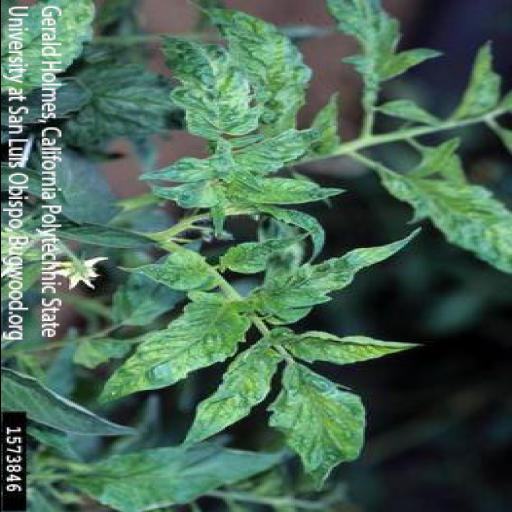disease_tomato: (86, 292, 254, 416), (256, 356, 378, 492), (251, 226, 425, 318), (172, 334, 294, 452), (150, 28, 261, 138), (224, 170, 350, 210), (112, 254, 208, 294)
